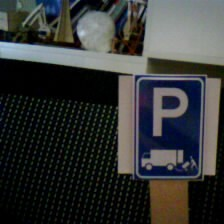load: (123, 68, 216, 184)
